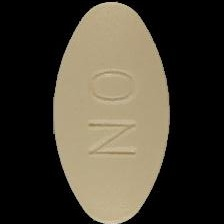61919-465: (0, 0, 224, 224)
